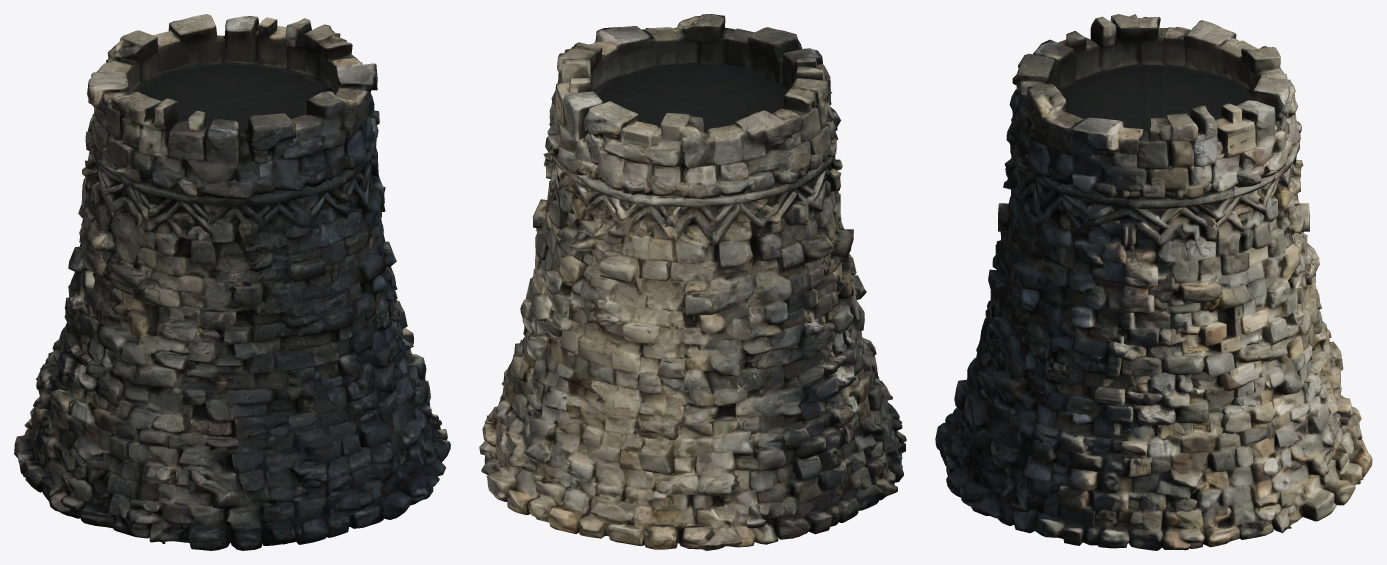
File: fort_savanna_tower.glb
3 views of the same model, side by side, from view 1: azimuth 30°, elevation 25°; view 2: azimuth 150°, elevation 25°; view 3: azimuth 270°, elevation 25° (orthographic).
Visible parts, largest first — view 1: tripo_node_201b1756-5e0c-4822-a9c2-68bc0b13cc73; view 2: tripo_node_201b1756-5e0c-4822-a9c2-68bc0b13cc73; view 3: tripo_node_201b1756-5e0c-4822-a9c2-68bc0b13cc73.
Boxes of the visible parts, bbox=[...] form: tripo_node_201b1756-5e0c-4822-a9c2-68bc0b13cc73: bbox=[14, 14, 450, 550]; tripo_node_201b1756-5e0c-4822-a9c2-68bc0b13cc73: bbox=[479, 14, 906, 550]; tripo_node_201b1756-5e0c-4822-a9c2-68bc0b13cc73: bbox=[935, 14, 1372, 550].
Size of the model in its own units: 1 by 0.9858 by 0.9834.
Materials: 1 (1 with a texture image).
